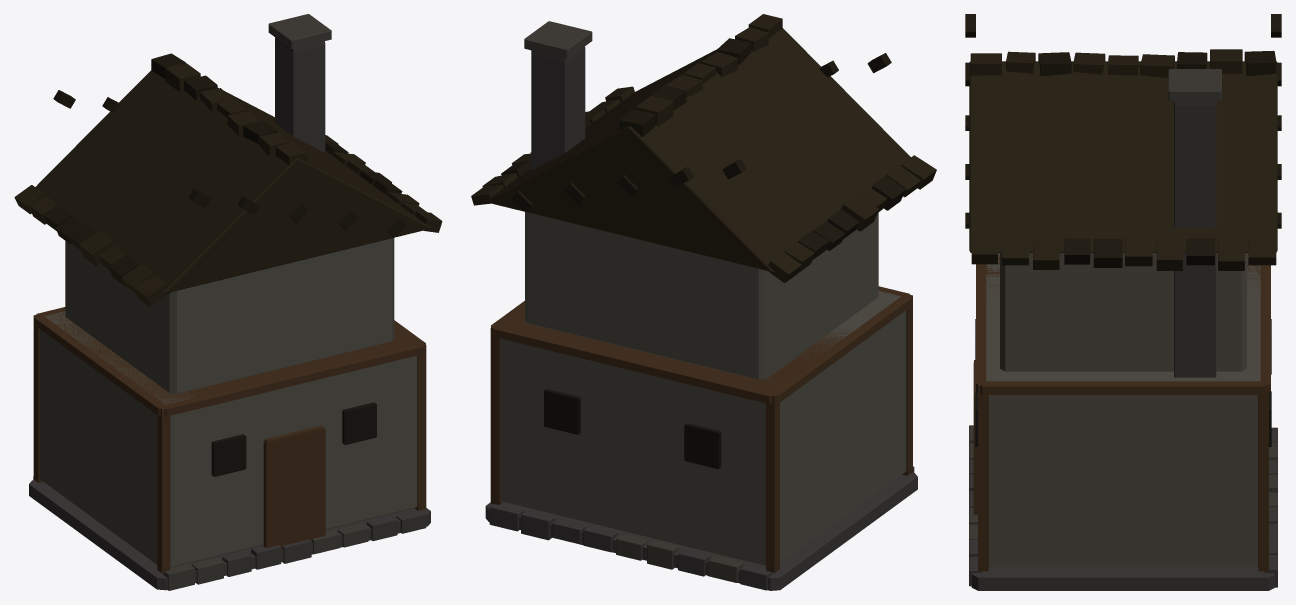
The model's file is house_tall.glb.
3 renders of one model, left to right at view 1: azimuth 30°, elevation 25°; view 2: azimuth 150°, elevation 25°; view 3: azimuth 270°, elevation 25°, orthographic. The views are drawn at different scales.
Parts seen in each view (by area): view 1: house_tall; view 2: house_tall; view 3: house_tall.
Boxes of the visible parts, <box> form: house_tall: <box>14,14,442,590</box>; house_tall: <box>471,14,936,590</box>; house_tall: <box>965,14,1281,590</box>.
Bounding box in the file's own units: 5.79 × 7.98 × 4.63.
